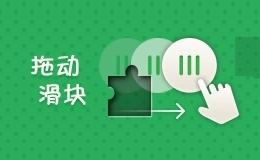target: (86, 56, 130, 96)
